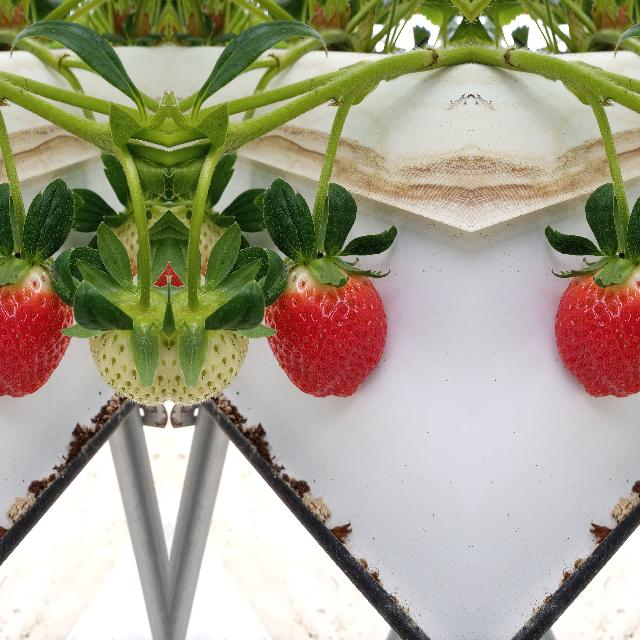Health_100: (262, 264, 384, 398), (556, 263, 640, 398), (0, 263, 74, 398)
Health_25: (170, 282, 252, 424), (84, 282, 166, 424)
